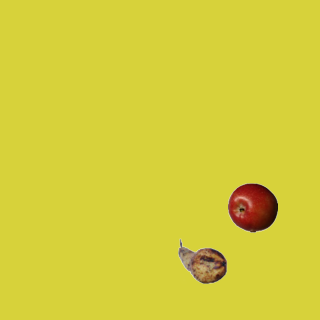Apple Braeburn: (227, 182, 277, 232)
Pear Abate: (177, 236, 227, 286)
